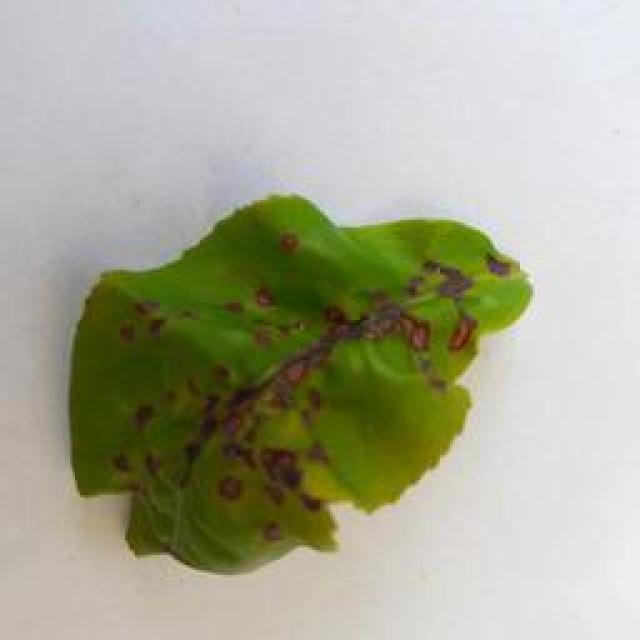Helopeltis: (56, 174, 548, 578)
